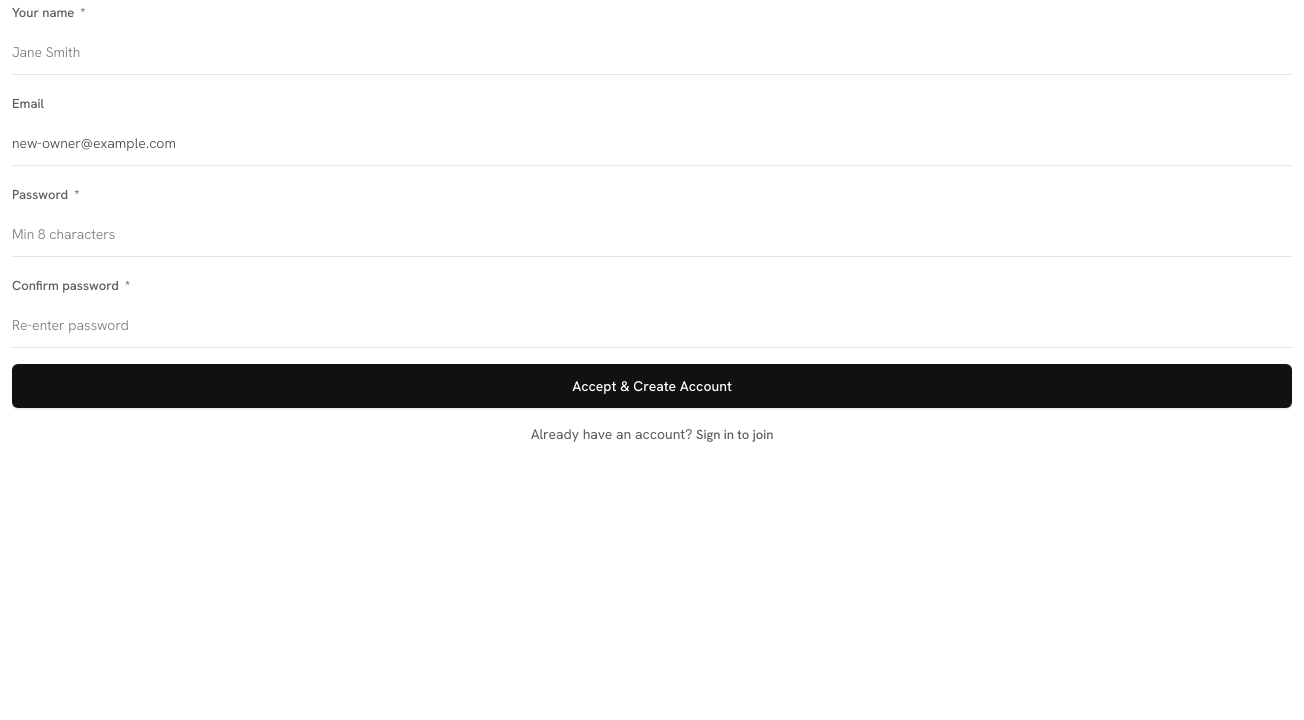
Test: AcceptInviteForm native auth notification › keeps invitation acceptance failures retryable
Type "Alex Owner" into the field with id "accept-name" at [652, 52], box [12, 30, 1292, 75]
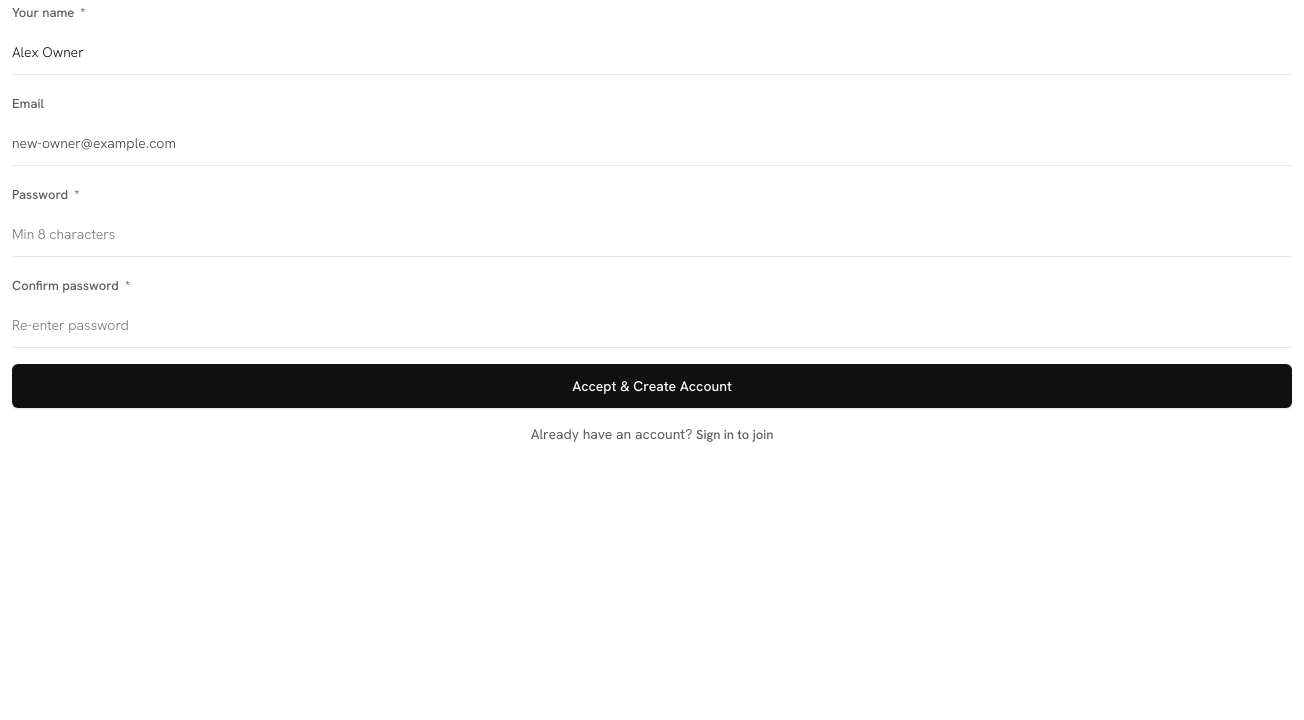
Type "secure-password" into the password field with id "accept-password" at [652, 234], box [12, 212, 1292, 257]
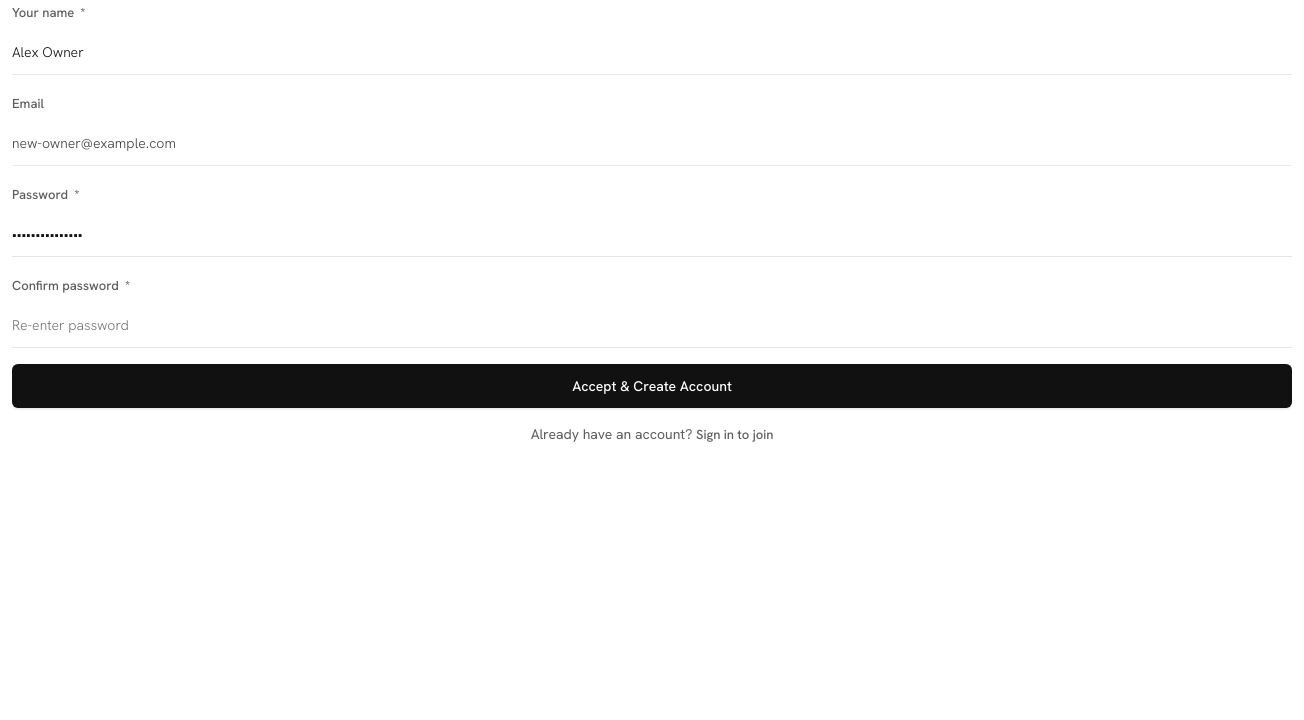
Type "secure-password" into the password field with id "accept-confirm-password" at [652, 326], box [12, 303, 1292, 348]
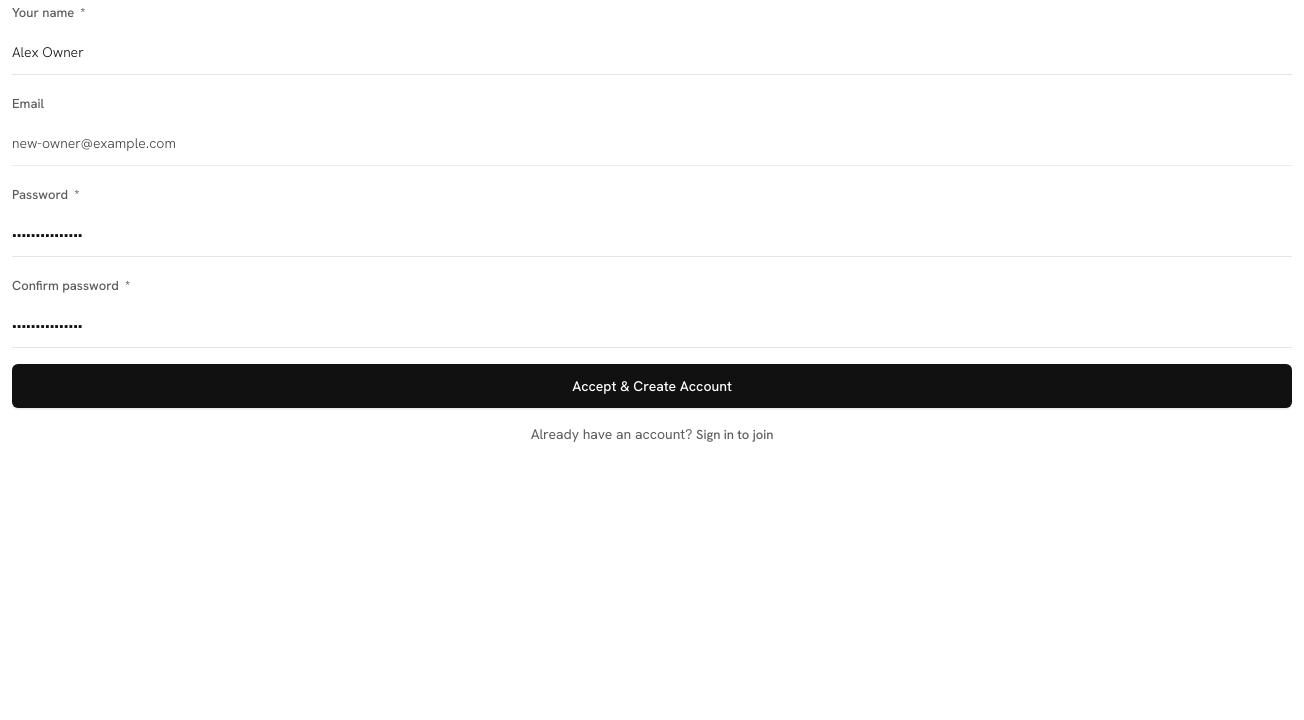
Submit the form
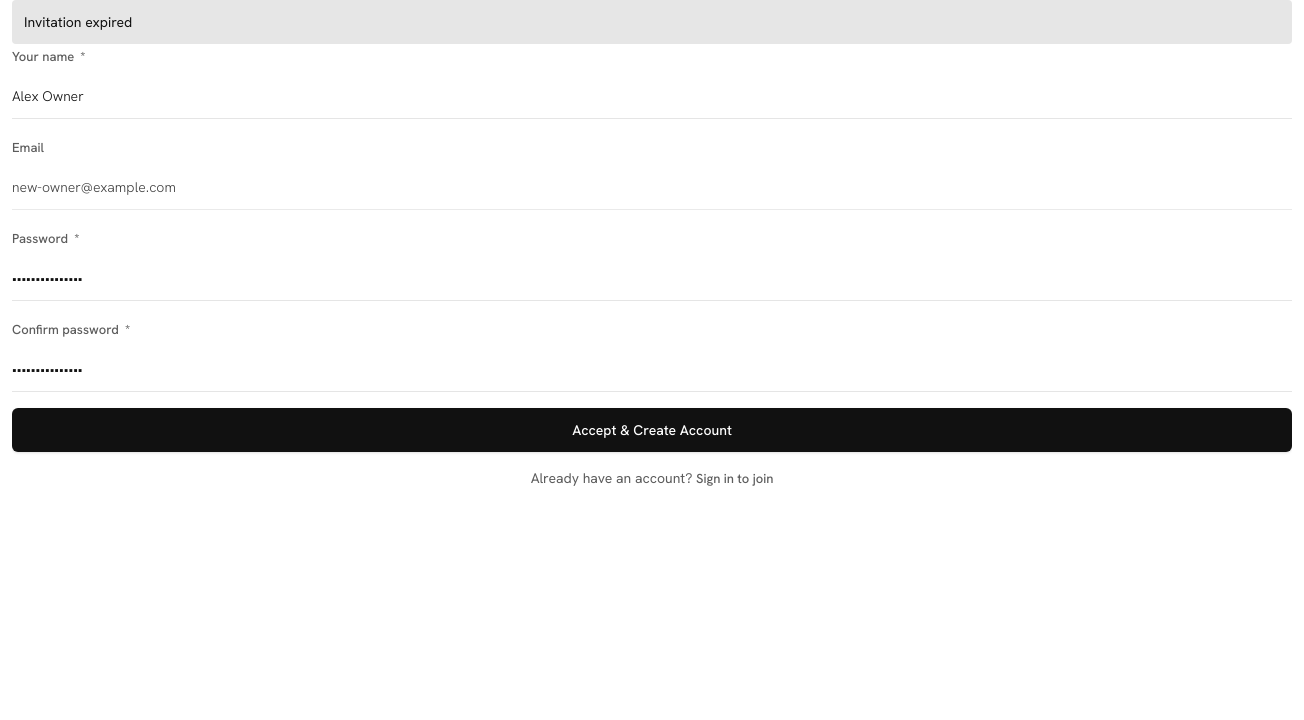
Now the text "Invitation expired" is shown, box [12, 0, 1292, 44]
